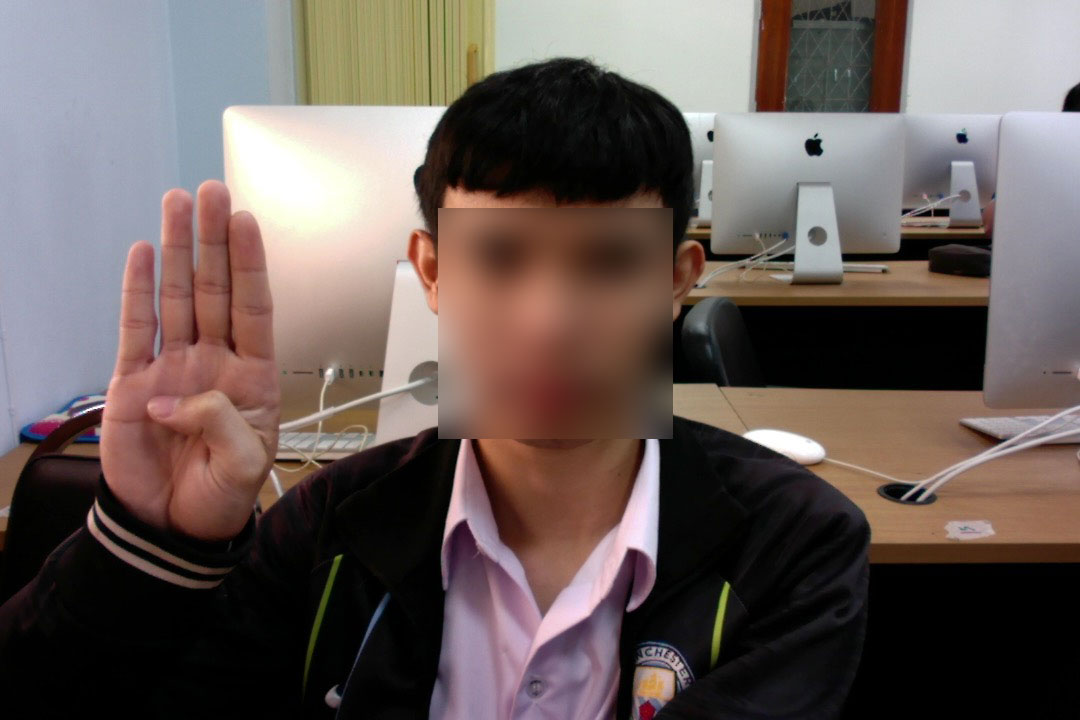bor: (91, 156, 284, 583)
